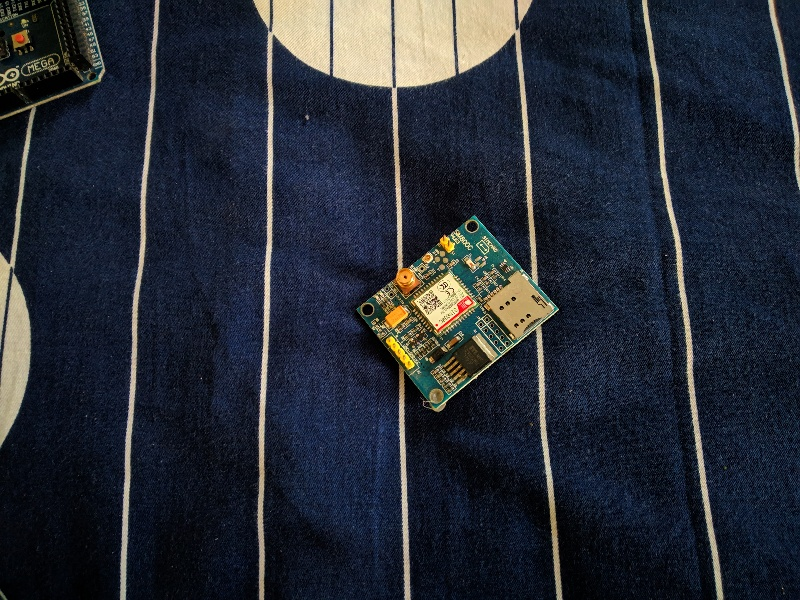SIM800: (348, 210, 564, 418)
